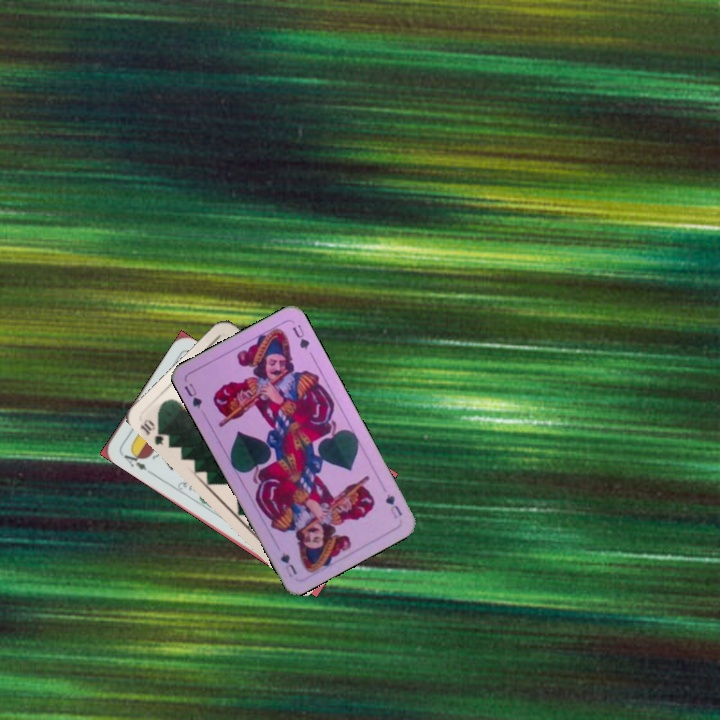EA: (117, 446, 149, 473)
G10: (136, 415, 173, 448)
GU: (180, 379, 205, 411), (381, 489, 405, 521)
